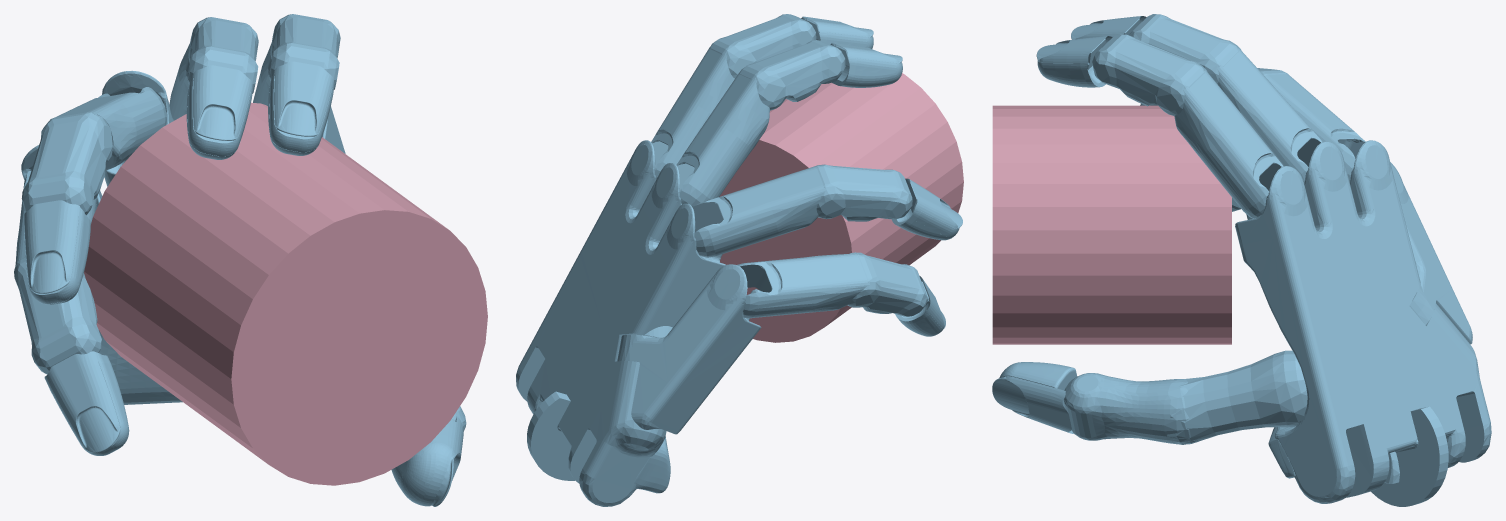
The picture shows the model from 3 angles, left to right: view 1: azimuth 30°, elevation 25°; view 2: azimuth 150°, elevation 25°; view 3: azimuth 270°, elevation 25°; orthographic projection. The views are drawn at different scales.
Parts seen in each view (by area): view 1: cylinder_medium.stl, world; view 2: world, cylinder_medium.stl; view 3: world, cylinder_medium.stl.
Boxes of the visible parts, x1,y1,x2,y2 form: cylinder_medium.stl: (84, 102, 487, 485); world: (14, 14, 466, 506); world: (516, 14, 962, 506); cylinder_medium.stl: (719, 73, 963, 342); world: (992, 14, 1491, 506); cylinder_medium.stl: (992, 105, 1231, 344).
Size of the model in its own units: 0.1488 by 0.1546 by 0.167.
